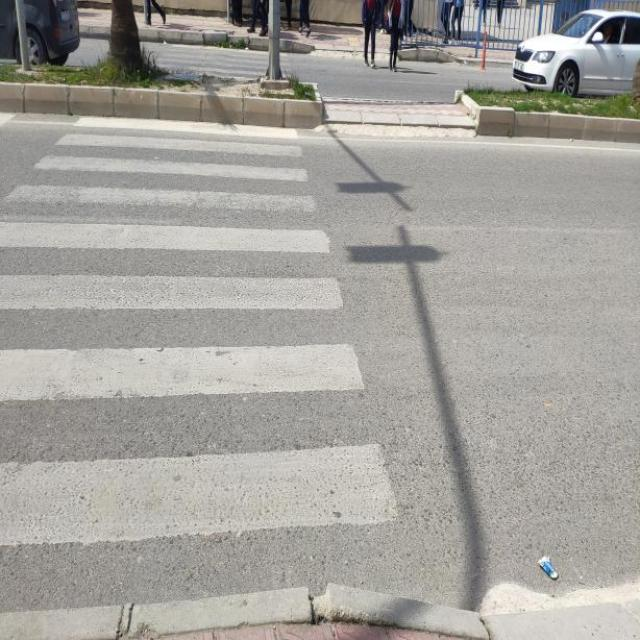pedestrian lane: (0, 114, 394, 545)
